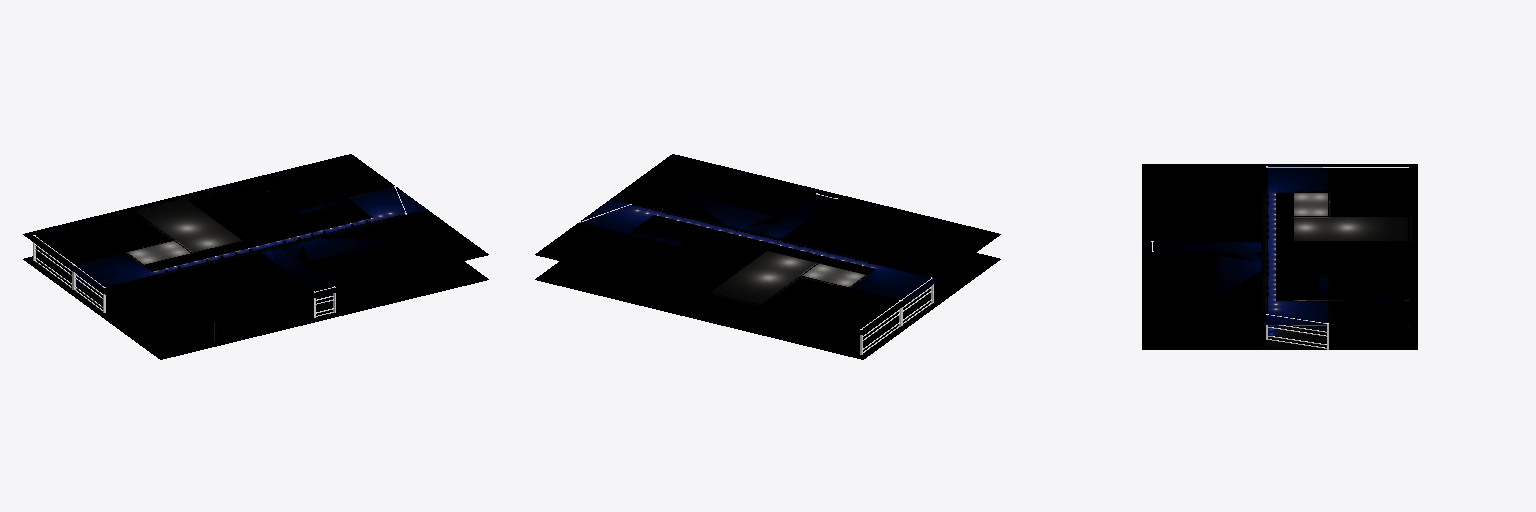
The picture shows the model from 3 angles: view 1: azimuth 30°, elevation 25°; view 2: azimuth 150°, elevation 25°; view 3: azimuth 270°, elevation 25°; orthographic projection.
Visible parts, largest first — view 1: Plane002, Plane001, Box003, Box023, Box011, Box021; view 2: Plane002, Box003, Plane001, Box023, Box021, Box011; view 3: Plane002, Plane001, Box023, Box011, Box003, Box021.
Part boxes in pixels (x1,y1,x2,y2): Plane002: (23,154,488,334); Plane001: (23,256,488,359); Box003: (36,169,435,341); Box023: (144,193,372,272); Box011: (86,169,435,341); Box021: (33,186,406,317); Plane002: (535,154,1000,334); Box003: (581,169,936,354); Plane001: (535,253,1000,359); Box023: (647,211,874,300); Box021: (579,193,933,354); Box011: (588,169,937,316); Plane002: (1142,164,1417,324); Plane001: (1142,325,1417,349); Box023: (1266,193,1408,300); Box011: (1152,192,1408,325); Box003: (1152,168,1408,325); Box021: (1151,166,1408,349).
Bounding box in the file's own units: 154 × 12.24 × 112.
6 materials, 5 textured.